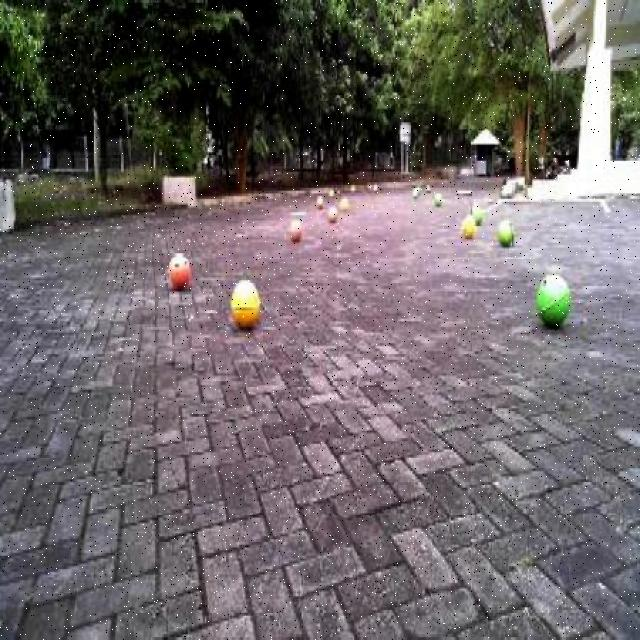buoy: (534, 262, 574, 334), (228, 274, 262, 333), (168, 243, 192, 293), (496, 213, 516, 248), (462, 207, 477, 242), (287, 216, 303, 246)
